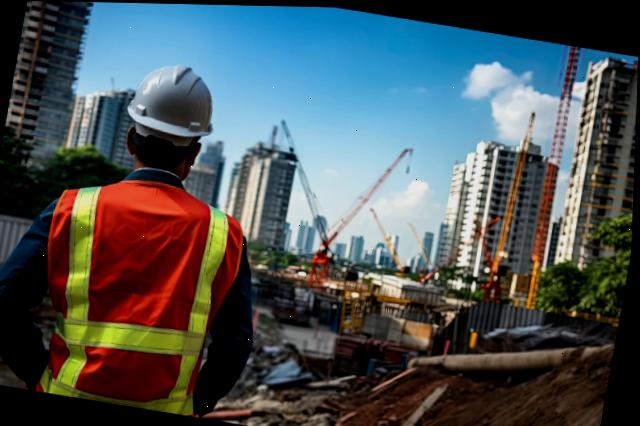helmet: (101, 49, 233, 143)
vest: (30, 171, 241, 417)
